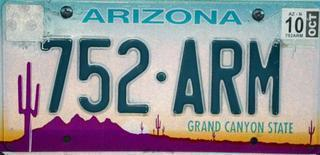placa de veiculo: (7, 0, 313, 147)
